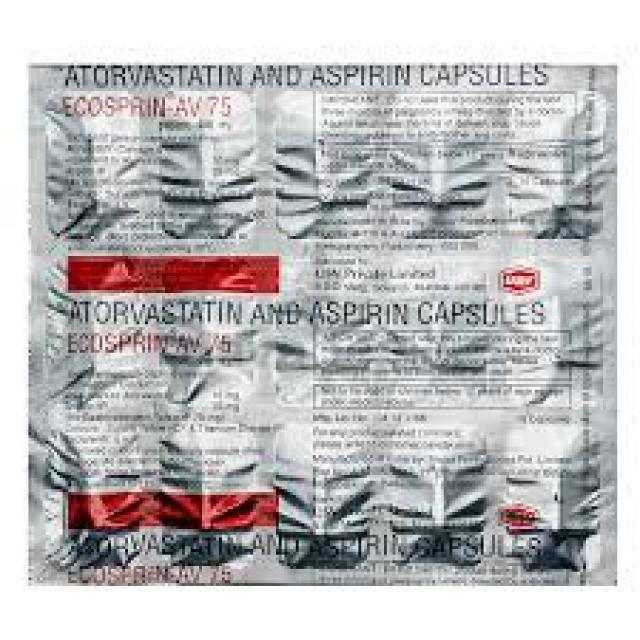authentic: (18, 52, 633, 598)
